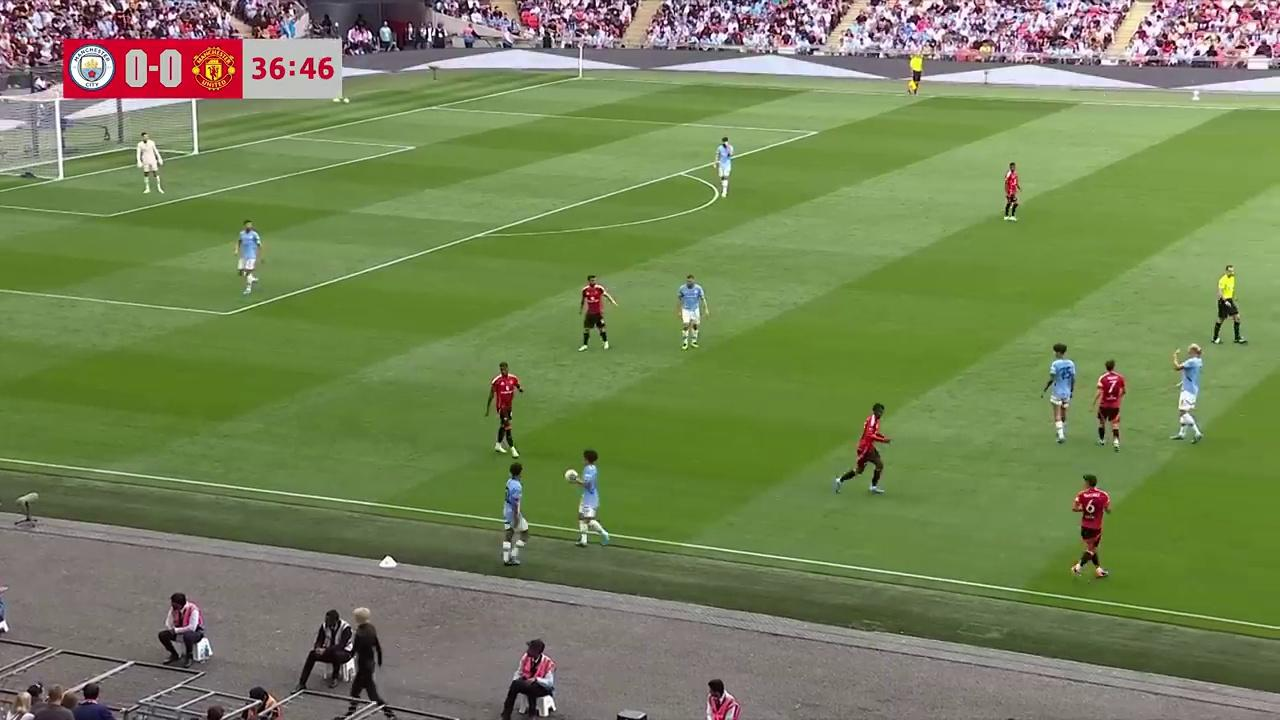ball: (562, 466, 578, 484)
player: (834, 403, 891, 495), (1069, 475, 1111, 579), (569, 449, 609, 547), (1041, 343, 1076, 444), (486, 361, 523, 453), (1092, 359, 1126, 451), (578, 275, 618, 351), (1172, 344, 1203, 442), (501, 460, 529, 550), (677, 273, 708, 350), (233, 219, 263, 294), (137, 133, 164, 193), (714, 135, 734, 198), (1003, 162, 1021, 221)
referee: (1211, 264, 1247, 345), (906, 52, 924, 96)
